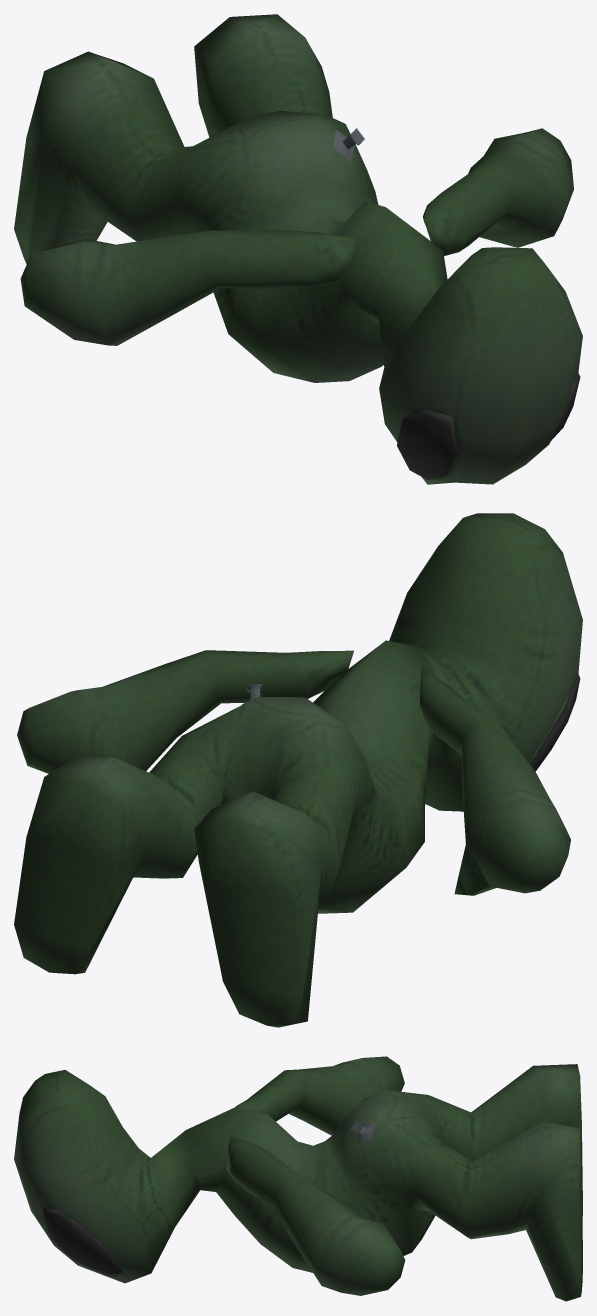
File: toy_alien_LOD1.obj
The picture shows the model from 3 angles, top to bottom: view 1: azimuth 30°, elevation 25°; view 2: azimuth 150°, elevation 25°; view 3: azimuth 270°, elevation 25°; orthographic projection. The views are drawn at different scales.
Parts seen in each view (by area): view 1: mtl_alien_toy; view 2: mtl_alien_toy; view 3: mtl_alien_toy.
Boxes of the visible parts, x1=… form: mtl_alien_toy: x1=14, y1=14, x2=582, y2=484; mtl_alien_toy: x1=14, y1=513, x2=582, y2=1027; mtl_alien_toy: x1=14, y1=1056, x2=582, y2=1301.
Bounding box in the file's own units: 52.63 × 24.15 × 62.66.
